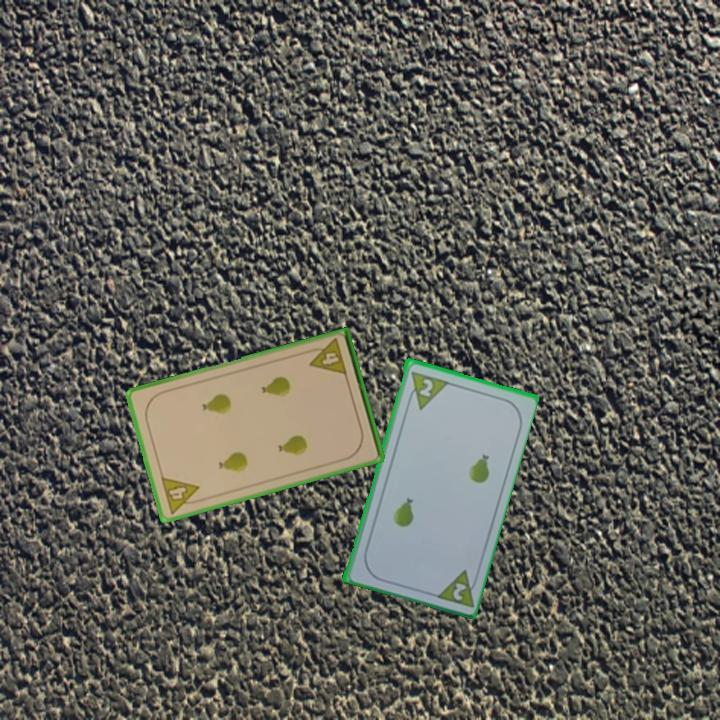2p: (415, 375, 436, 400), (449, 578, 469, 603)
4p: (157, 473, 205, 517), (303, 335, 350, 379)
